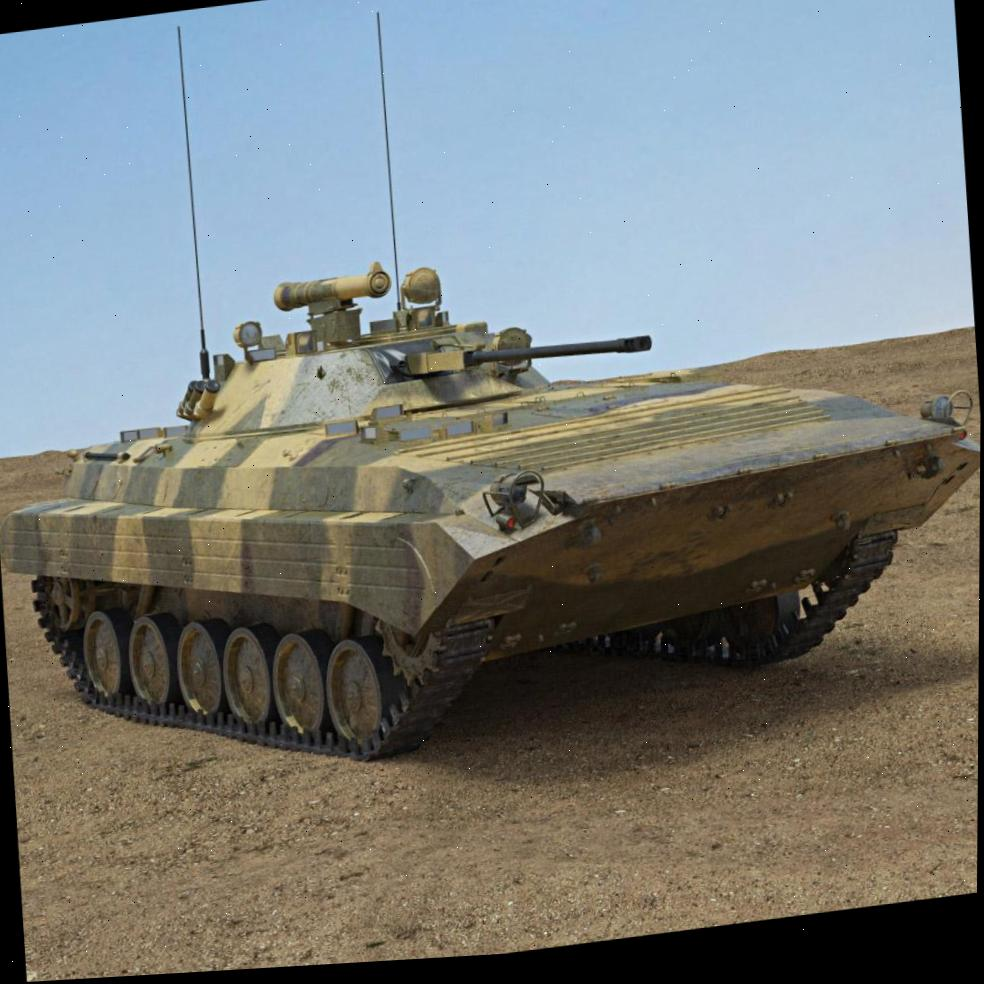tank: (0, 102, 983, 807)
